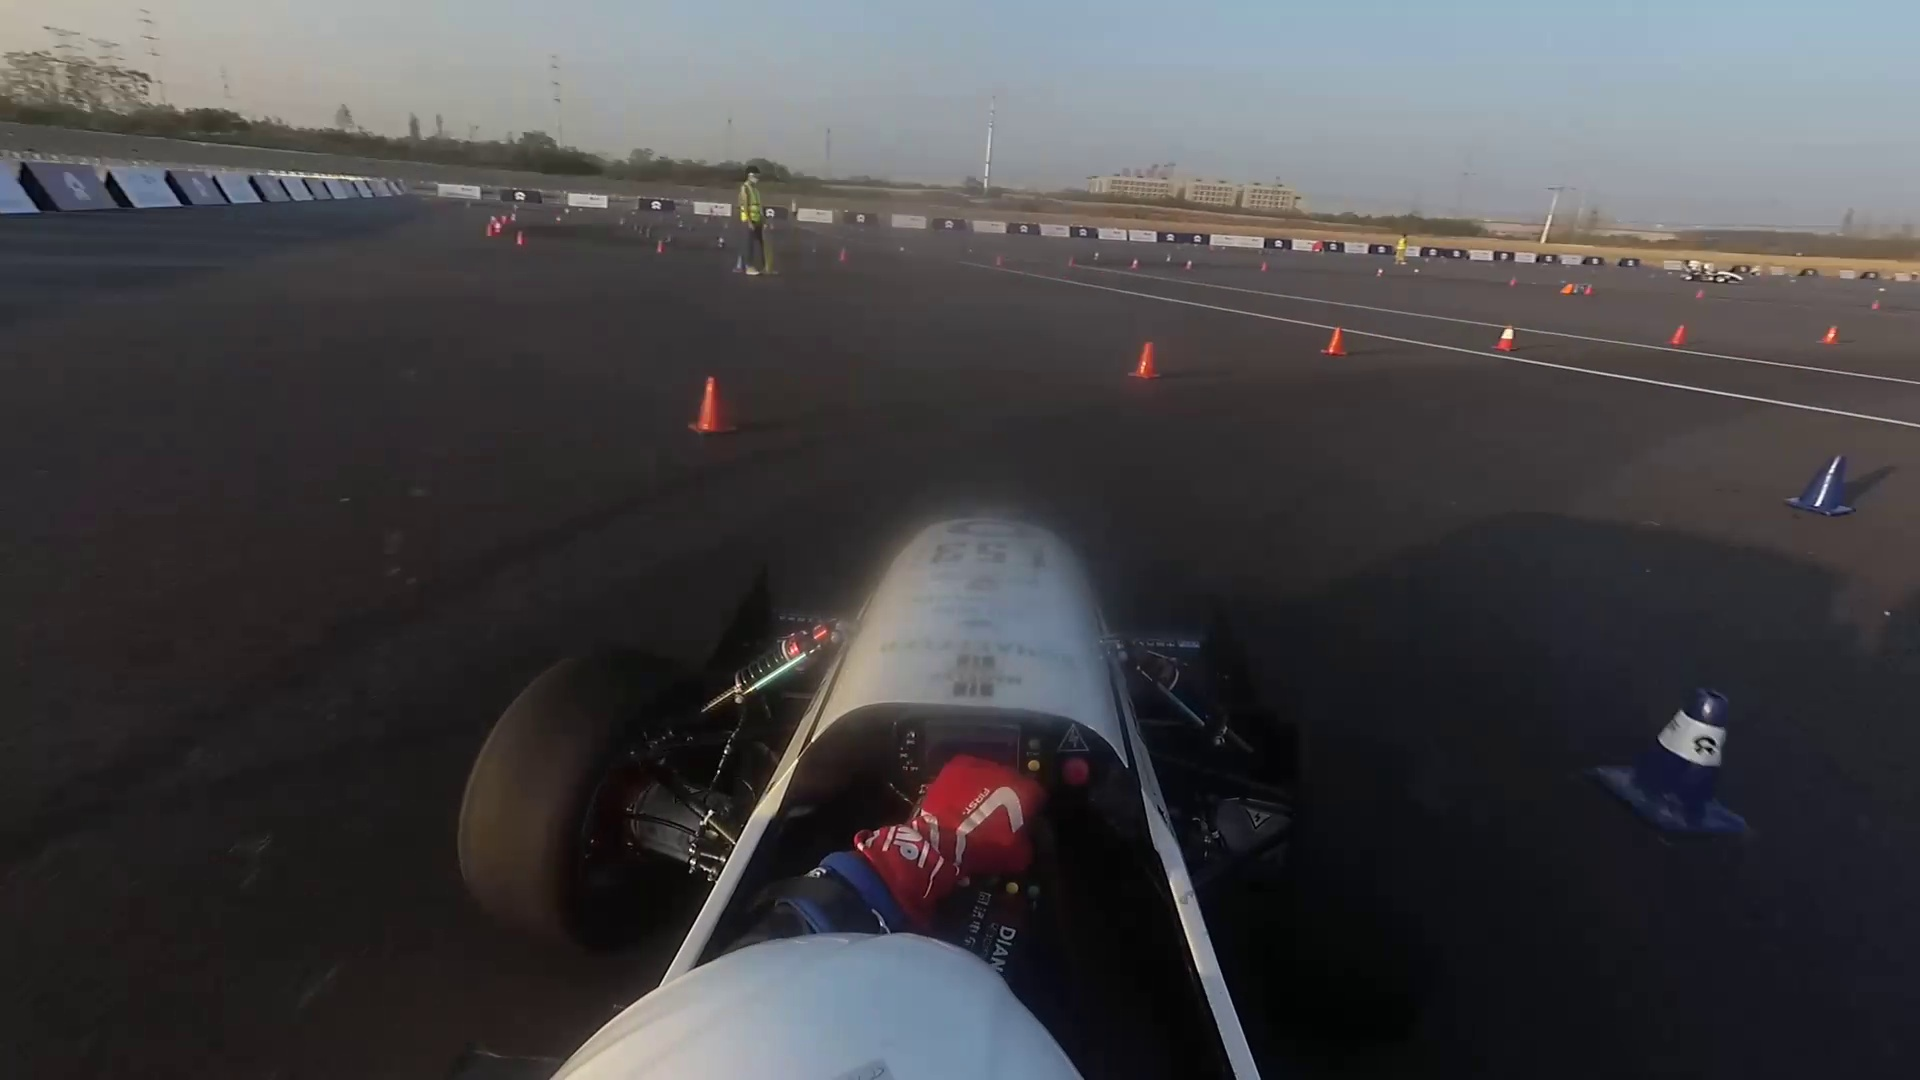blue_cone: (1597, 676, 1756, 855), (1807, 464, 1859, 520), (1095, 252, 1101, 261), (1166, 253, 1172, 261)
red_cone: (688, 381, 729, 436), (1131, 340, 1155, 382), (1320, 326, 1350, 357), (1493, 324, 1518, 355), (1818, 324, 1842, 345), (1671, 324, 1689, 347), (514, 232, 526, 247), (1259, 262, 1270, 274), (655, 241, 665, 255), (1695, 290, 1705, 301), (837, 249, 847, 261), (1130, 258, 1139, 270), (1873, 299, 1880, 310), (1586, 285, 1592, 295), (1511, 277, 1516, 286)
